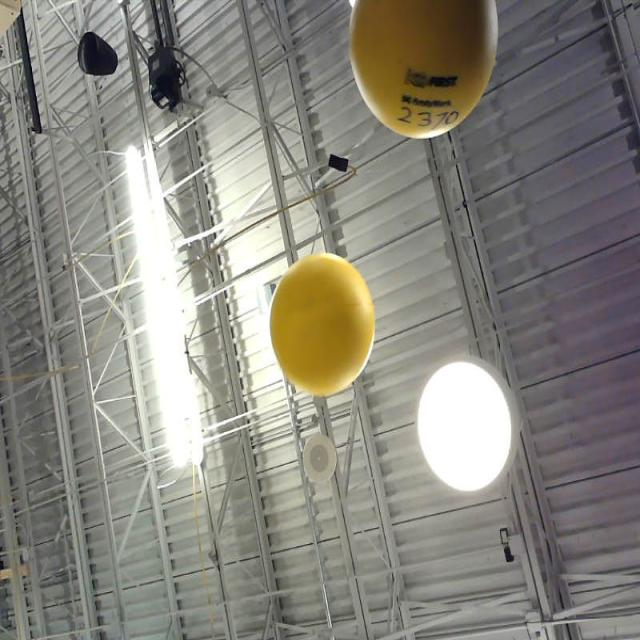Fuel: (347, 0, 498, 139), (269, 253, 375, 396)
